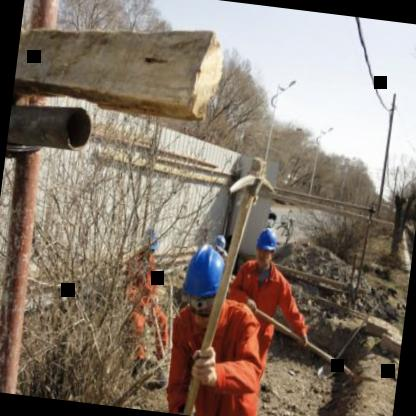helmet: (178, 244, 228, 326), (251, 226, 280, 268), (141, 228, 161, 257)
